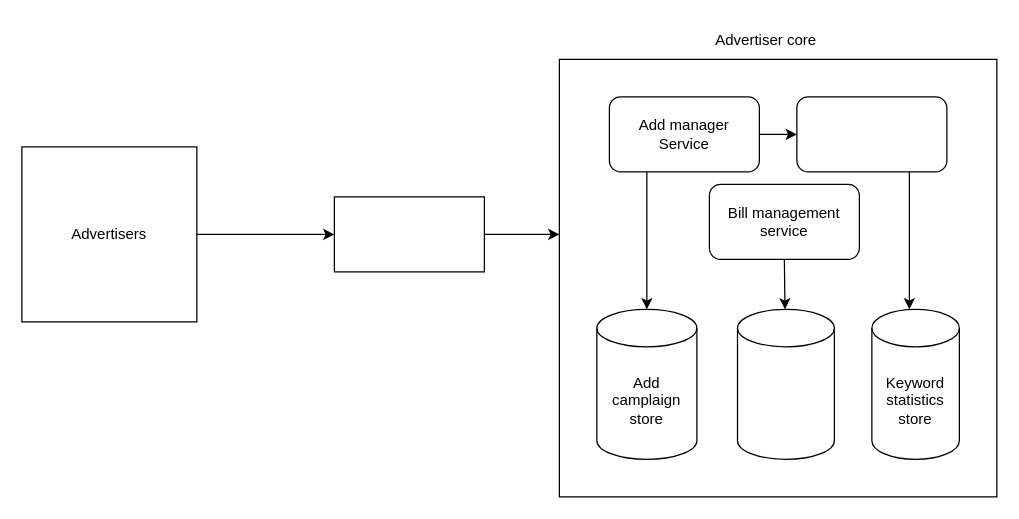
The diagram is 1019 pixels wide and 519 high, and some of its shapes have lost their labels. Here are the shapes that lost their labels. From the top down, the box of each, then its label:
(796, 96, 947, 172): Keyword helper processor service
(333, 196, 484, 272): Add creation Api
(736, 308, 834, 459): Bill information store
